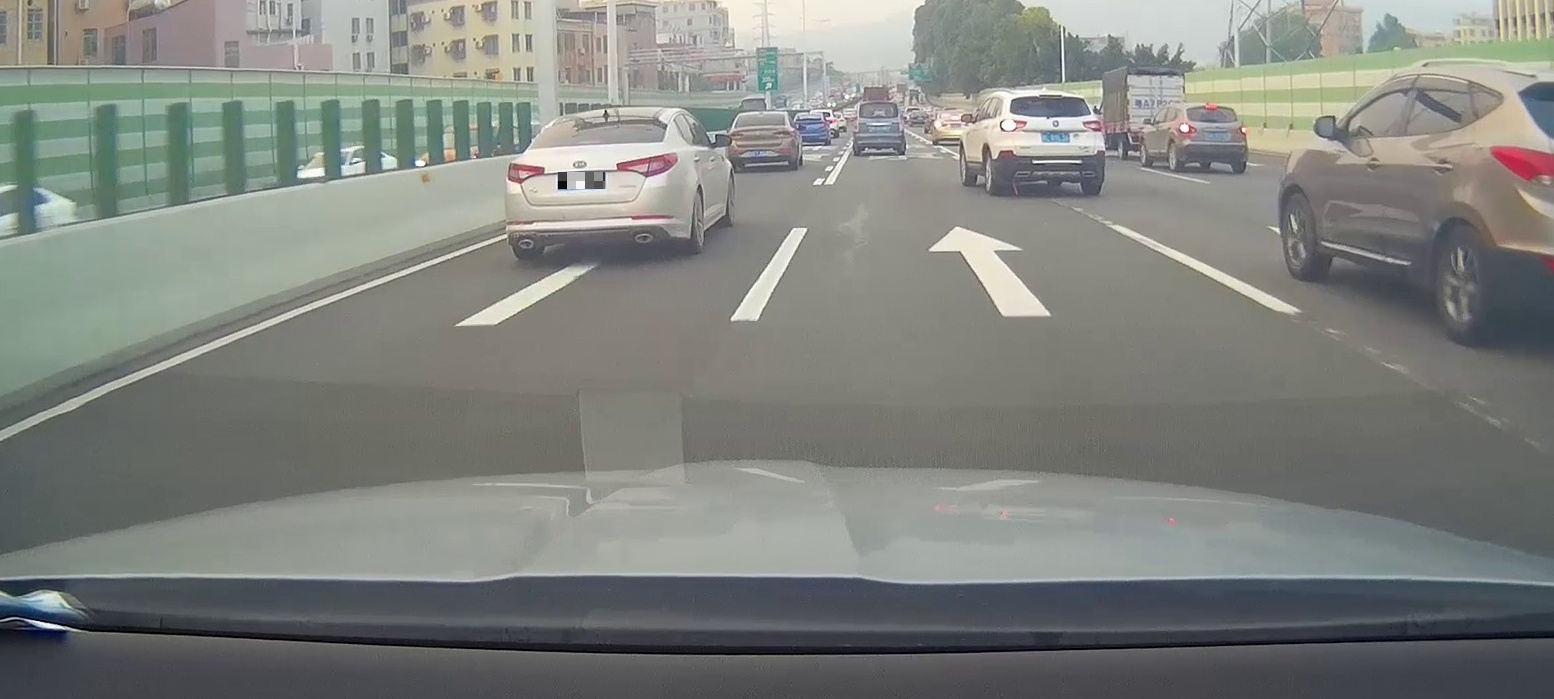L_light: (508, 162, 545, 184), (1000, 120, 1027, 131), (1180, 123, 1196, 134), (729, 133, 742, 137), (854, 122, 858, 131)
R_light: (616, 152, 678, 177), (1083, 120, 1103, 132), (1239, 126, 1246, 134), (775, 131, 789, 134), (900, 121, 904, 130)
T_light: (1039, 94, 1062, 99), (594, 116, 617, 119), (1206, 105, 1216, 109), (874, 103, 882, 106), (758, 114, 768, 116)
day-brake: (1178, 104, 1247, 173)
day-no: (506, 112, 681, 261), (997, 93, 1105, 196), (725, 111, 795, 171), (853, 102, 905, 156)
plate_1: (558, 172, 605, 189)
